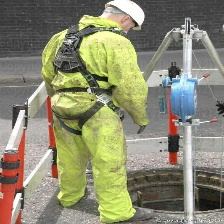helmet: (105, 1, 147, 27)
no-vest: (43, 28, 148, 132)
person: (41, 0, 152, 224)
